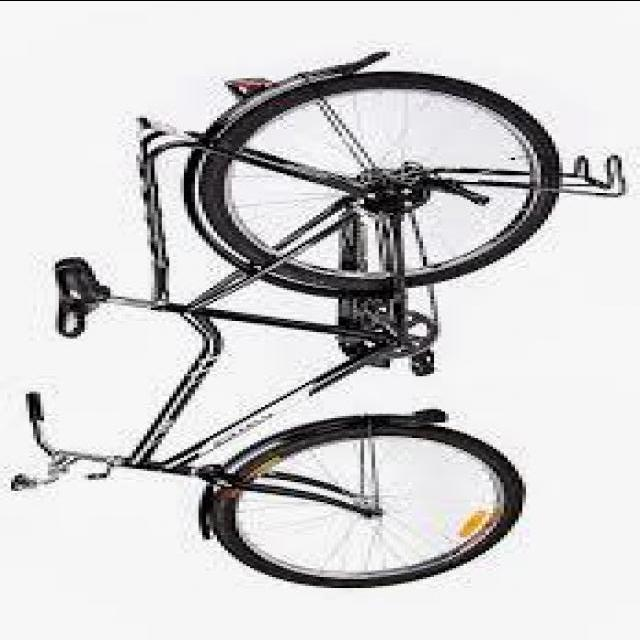bicycle: (16, 79, 575, 597)
